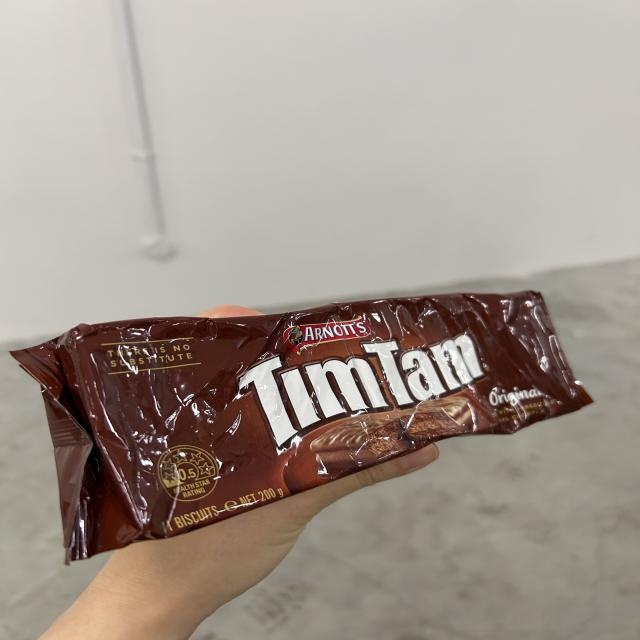object_name: (43, 325, 569, 422)
